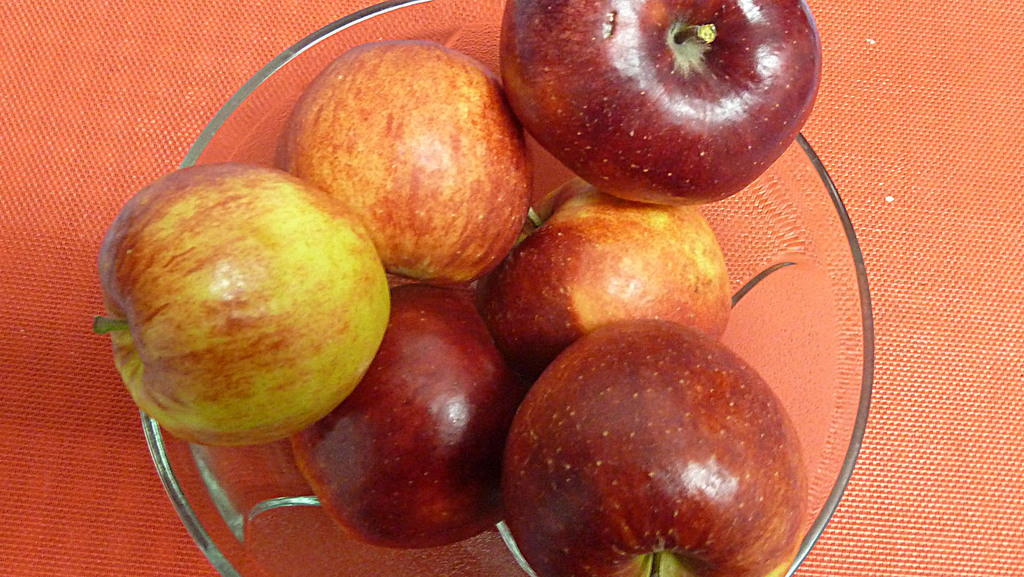Apple: (90, 165, 394, 448), (498, 318, 814, 576), (492, 0, 822, 207), (282, 277, 527, 554), (276, 35, 535, 286), (473, 176, 734, 386)
